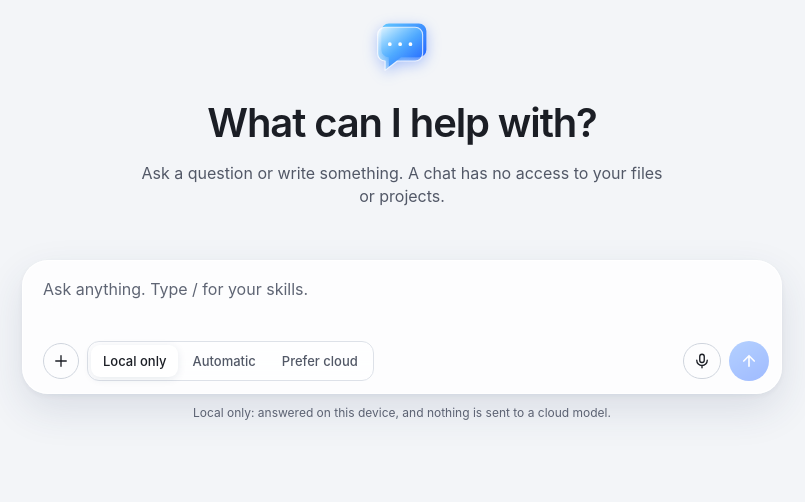
Test case: ChatView › says why a file could not be attached
Click the button named "Attach files". click: [61, 361]
box: [43,343,79,379]
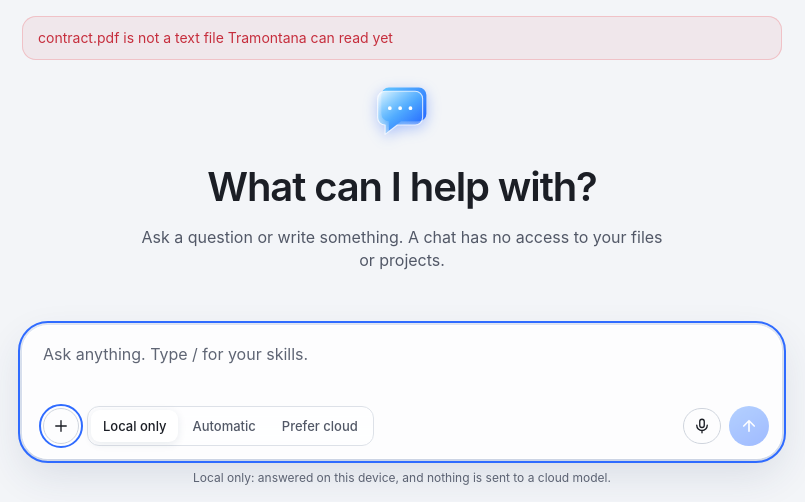
expect the message shows "contract.pdf is not a text file": met, box [38,29,393,46]
